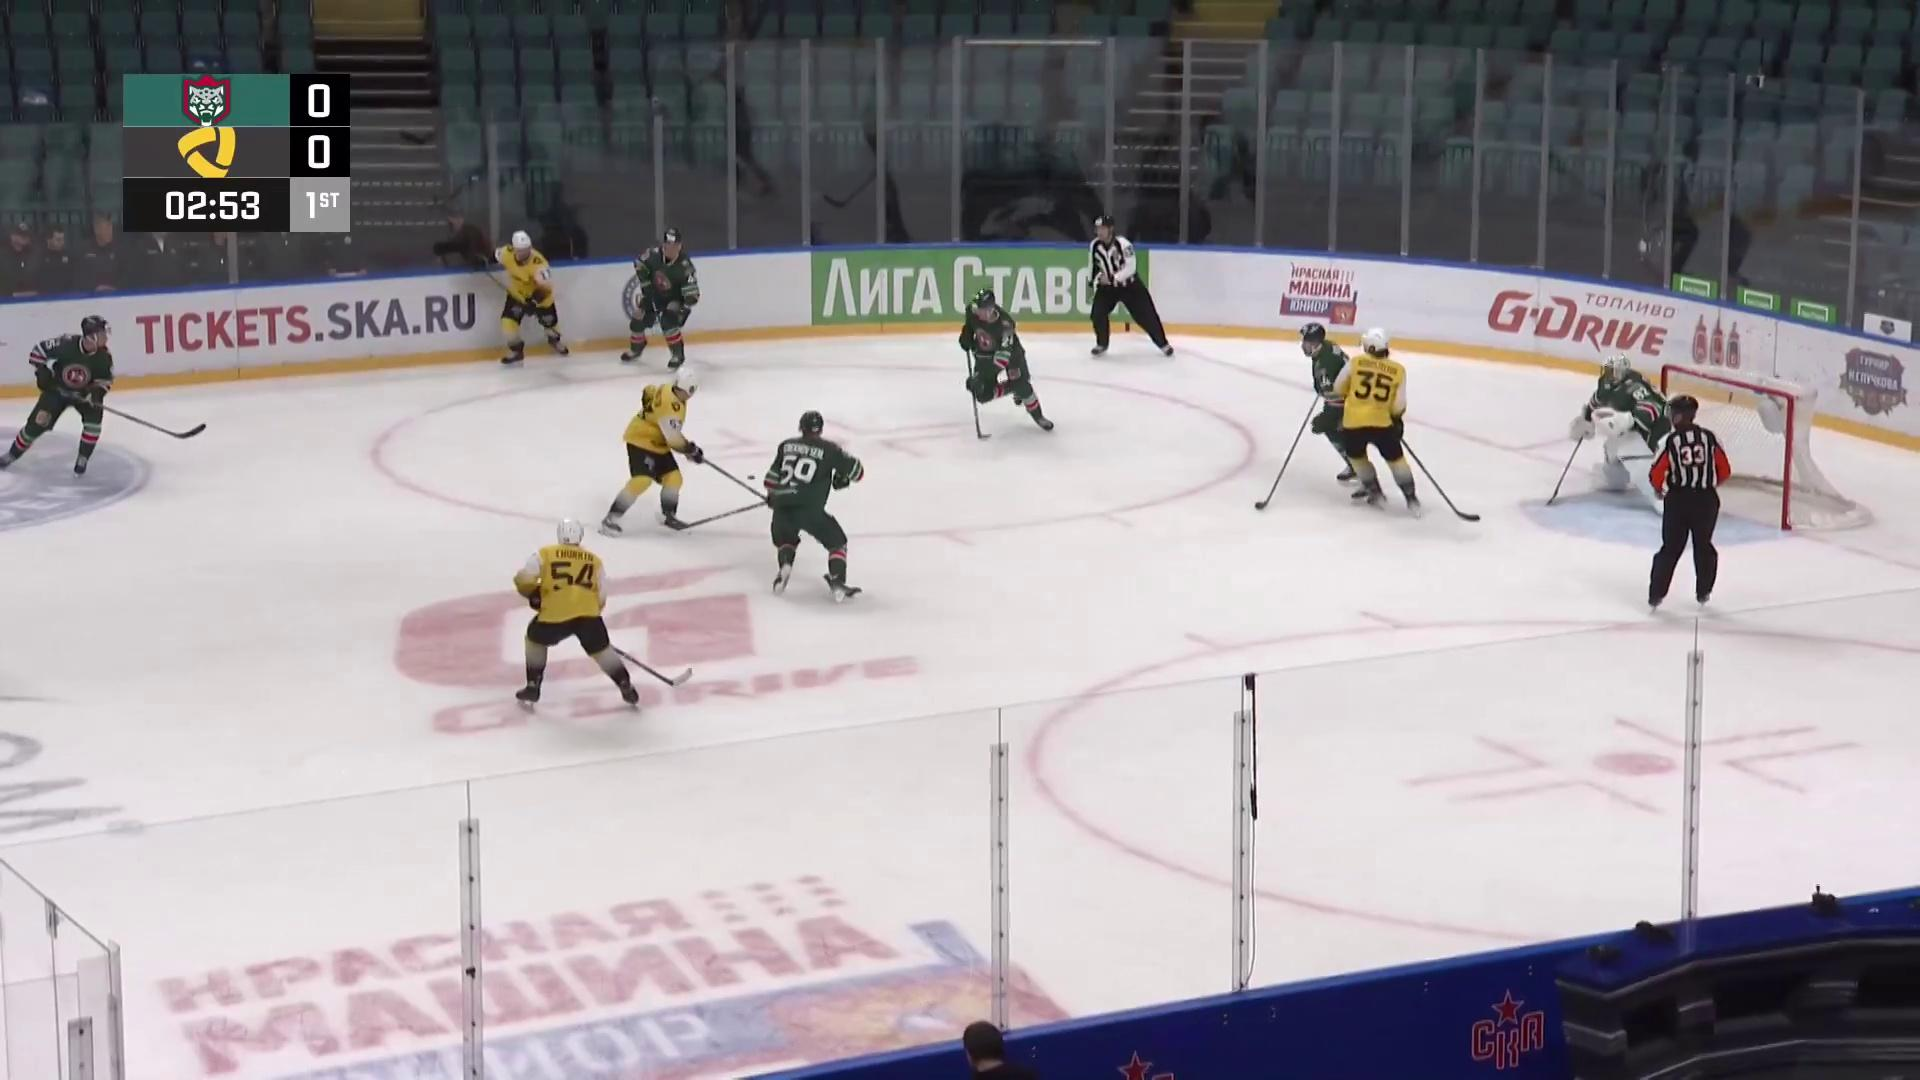ball: (746, 475, 757, 480)
